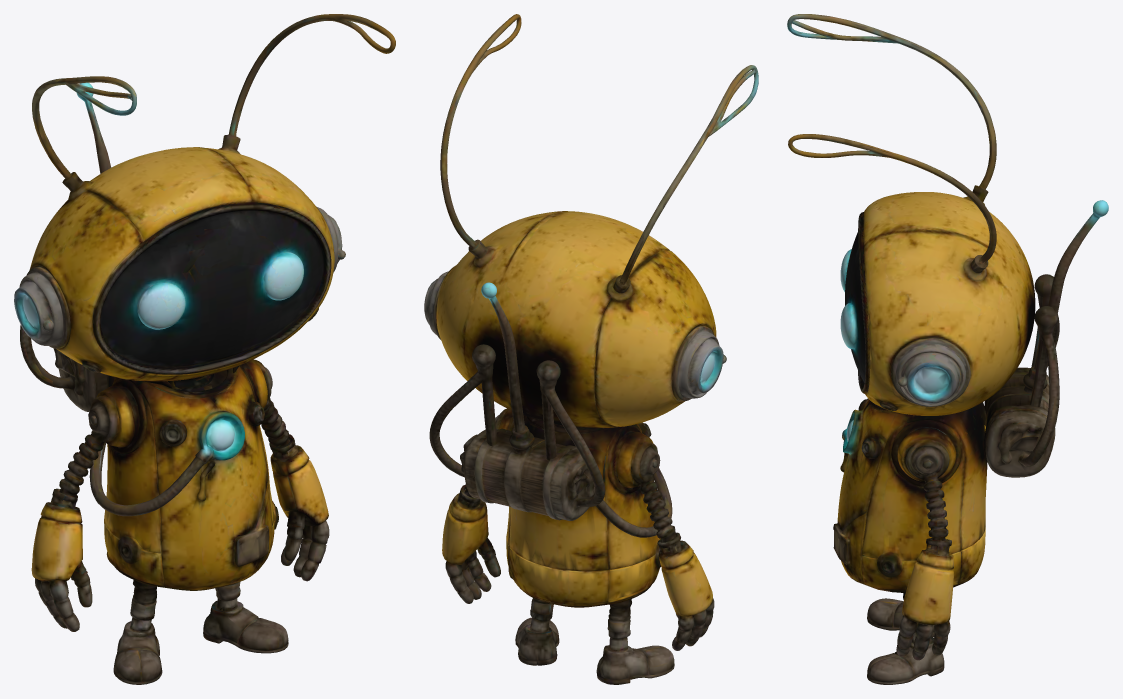
The model's file is character.glb.
3 views of the same model, side by side, from view 1: azimuth 30°, elevation 25°; view 2: azimuth 150°, elevation 25°; view 3: azimuth 270°, elevation 25° (orthographic). The views are drawn at different scales.
Visible parts, largest first — view 1: material; view 2: material; view 3: material.
Boxes of the visible parts, x1,y1,x2,y2 form: material: (14, 14, 395, 684); material: (424, 14, 758, 684); material: (787, 14, 1108, 684).
Size of the model in its own units: 0.5104 by 1.02 by 0.5106.
1 material, 1 textured.
